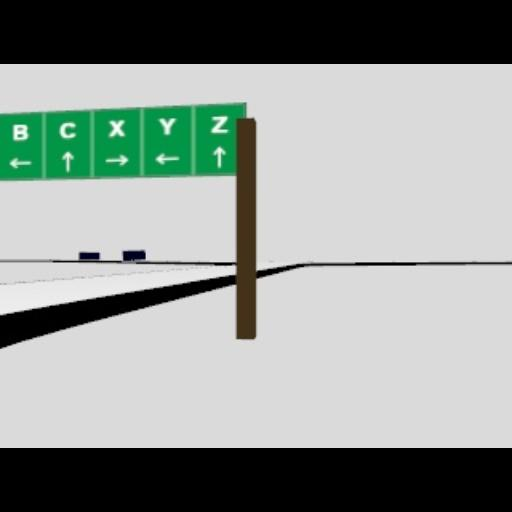B: (13, 124, 29, 142)
C: (58, 120, 78, 140)
Left: (154, 152, 180, 166), (9, 156, 33, 170)
Right: (105, 152, 129, 168)
Straight: (211, 145, 227, 169), (61, 150, 75, 174)
X: (108, 120, 126, 138)
Y: (158, 116, 178, 136)
Z: (210, 116, 230, 134)
